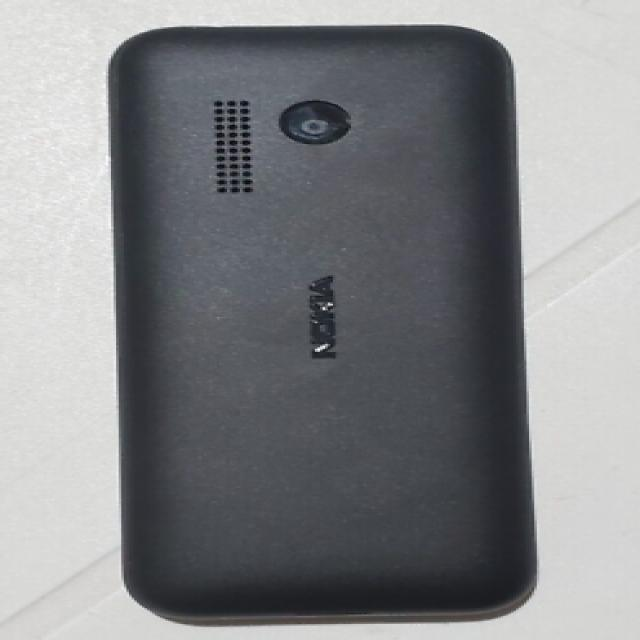mobile phone: (106, 22, 539, 626)
